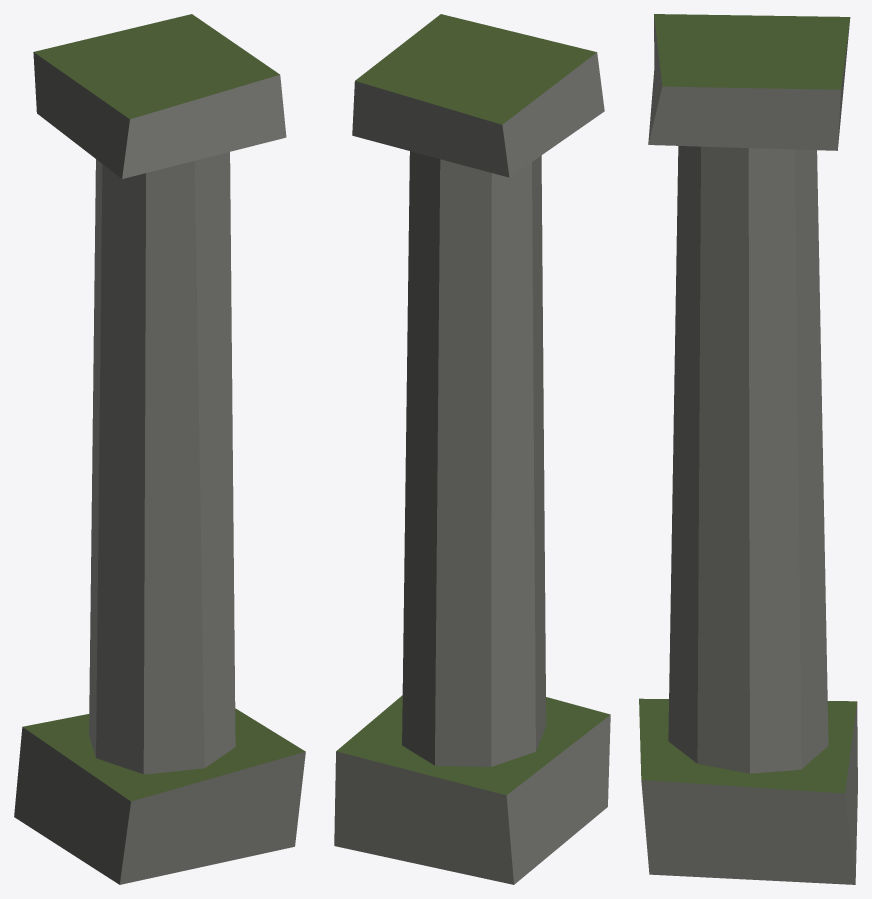
Rendered from Column.fbx.
3 views of the same model, side by side, from view 1: azimuth 30°, elevation 25°; view 2: azimuth 150°, elevation 25°; view 3: azimuth 270°, elevation 25° (orthographic). The views are drawn at different scales.
Visible parts, largest first — view 1: Column; view 2: Column; view 3: Column.
Part boxes in pixels (x1=…): Column: x1=14, y1=14, x2=305, y2=884; Column: x1=334, y1=14, x2=610, y2=884; Column: x1=639, y1=14, x2=857, y2=884.
Bounding box in the file's own units: 0.69 × 2.74 × 0.6876.
